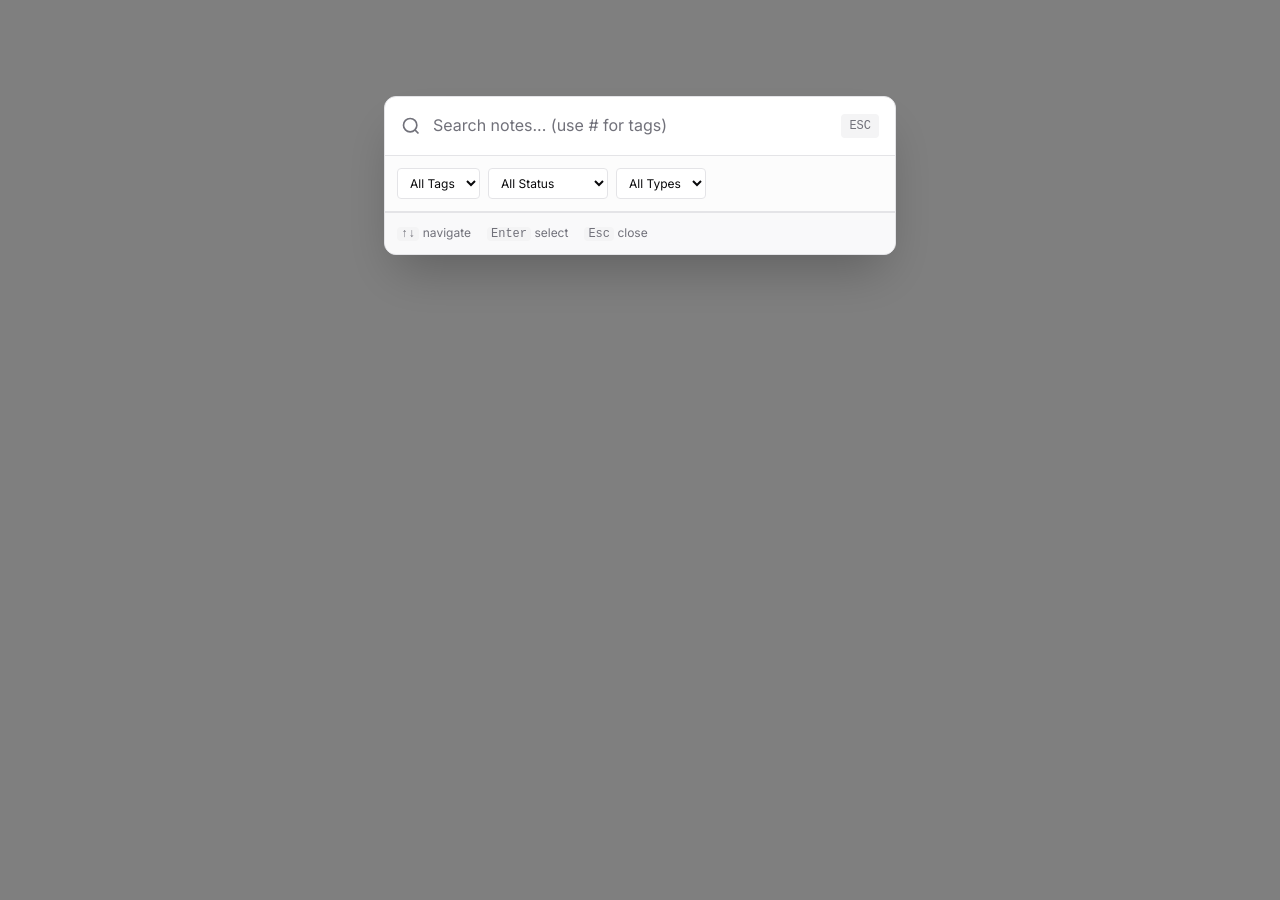
Test: SearchBar › displays search results
Type "test" into the dropdown with placeholder "Search notes... (use # for tags)".
click(631, 126); type("test")  # box left=433, top=113, right=829, bottom=139
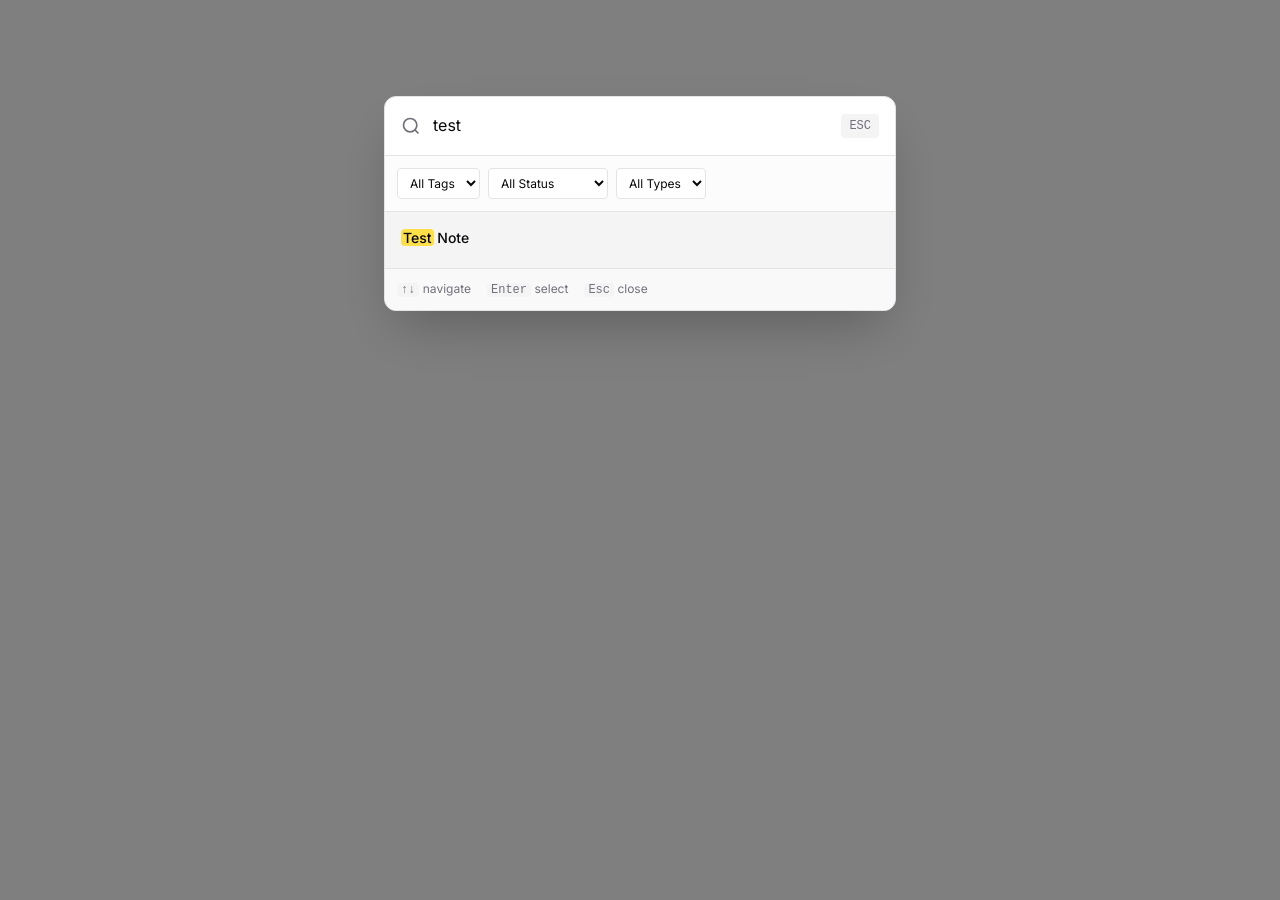
Expected: the button is shown, left=385, top=212, right=895, bottom=268
